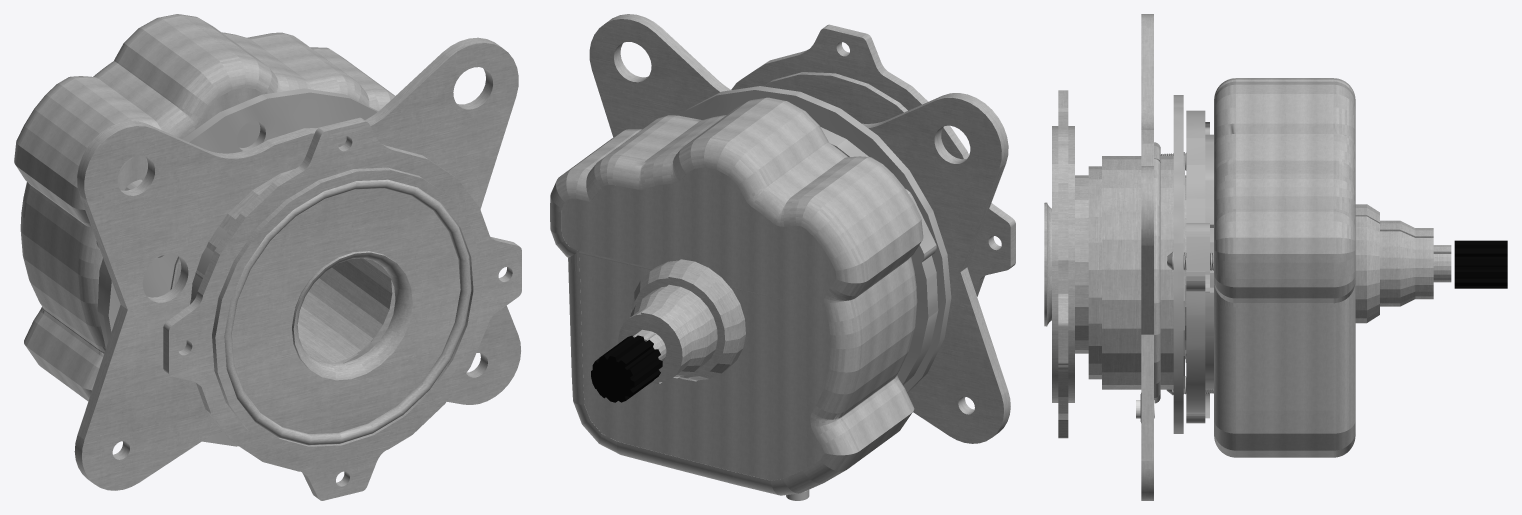
3 views of the same model, side by side, from view 1: azimuth 30°, elevation 25°; view 2: azimuth 150°, elevation 25°; view 3: azimuth 270°, elevation 25° (orthographic). The views are drawn at different scales.
Parts seen in each view (by area): view 1: 1.002, 1, 1.001; view 2: 1, 1.002, 1.001; view 3: 1, 1.002, 1.001.
Boxes of the visible parts, left/top/right/bottom form: 1.002: left=74, top=37, right=521, bottom=500; 1: left=14, top=14, right=394, bottom=401; 1.001: left=103, top=88, right=378, bottom=446; 1: left=550, top=97, right=938, bottom=495; 1.002: left=589, top=14, right=1015, bottom=443; 1.001: left=680, top=86, right=951, bottom=393; 1: left=1186, top=78, right=1355, bottom=457; 1.002: left=1044, top=14, right=1507, bottom=500; 1.001: left=1173, top=95, right=1183, bottom=433.
Bounding box in the file's own units: 330 × 284 × 336.
Materials: 11 (8 with a texture image).
